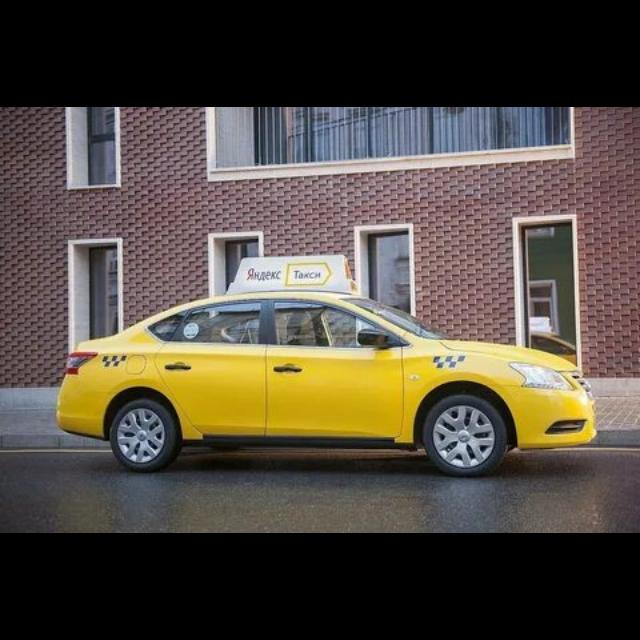taxi: (56, 254, 598, 479)
